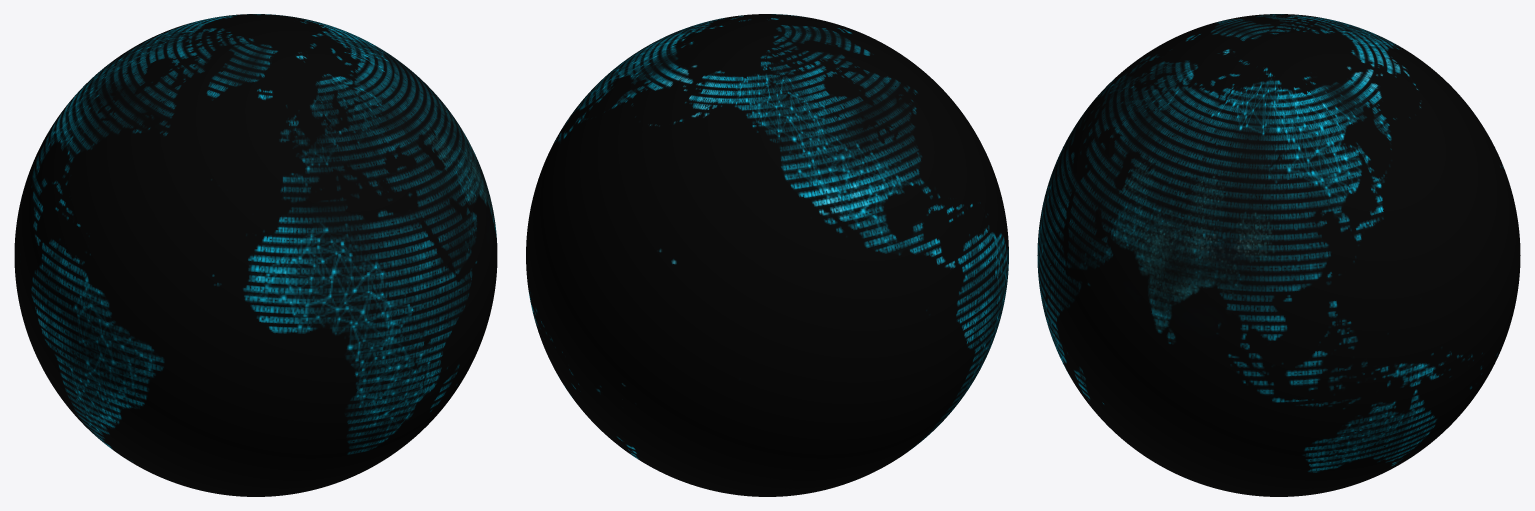
The model's file is Earth1_NO_locations.glb.
3 views of the same model, side by side, from view 1: azimuth 30°, elevation 25°; view 2: azimuth 150°, elevation 25°; view 3: azimuth 270°, elevation 25° (orthographic).
Visible parts, largest first — view 1: EARTH:Layer1_TERRE_0.001; view 2: EARTH:Layer1_TERRE_0.001; view 3: EARTH:Layer1_TERRE_0.001.
Boxes of the visible parts, x1=… form: EARTH:Layer1_TERRE_0.001: x1=14, y1=14, x2=497, y2=496; EARTH:Layer1_TERRE_0.001: x1=526, y1=14, x2=1008, y2=496; EARTH:Layer1_TERRE_0.001: x1=1037, y1=14, x2=1520, y2=496.
Bounding box in the file's own units: 201 × 201 × 201.
Materials: 2 (1 with a texture image).
